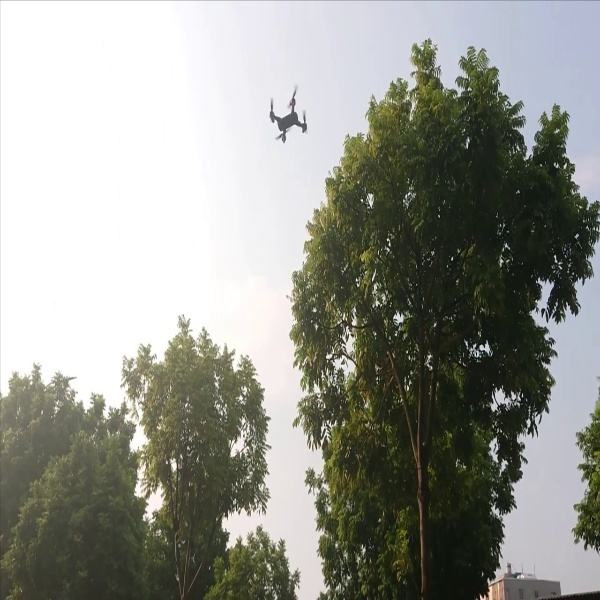drone: (259, 84, 319, 145)
